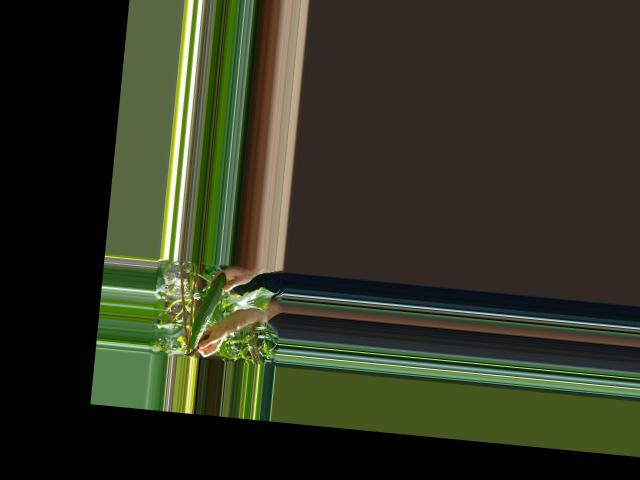cucumber: (189, 269, 227, 350)
